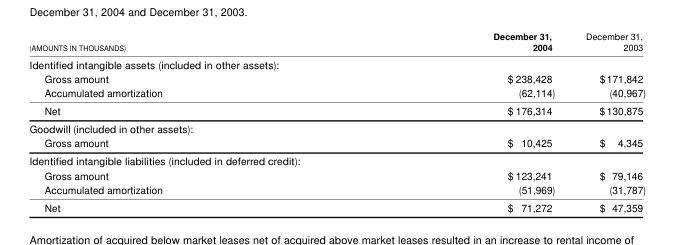table: (28, 29, 644, 213)
table column: (28, 29, 327, 213), (327, 29, 569, 213), (569, 29, 644, 213)
table column header: (28, 29, 644, 54)
table projected row header: (28, 54, 644, 70), (28, 119, 644, 135), (28, 151, 644, 167)
table row: (28, 29, 644, 54), (28, 101, 644, 119), (28, 54, 644, 70), (28, 85, 644, 101), (28, 119, 644, 135), (28, 135, 644, 151), (28, 151, 644, 167), (28, 181, 644, 197), (28, 197, 644, 213), (28, 70, 644, 85), (28, 167, 644, 181)
